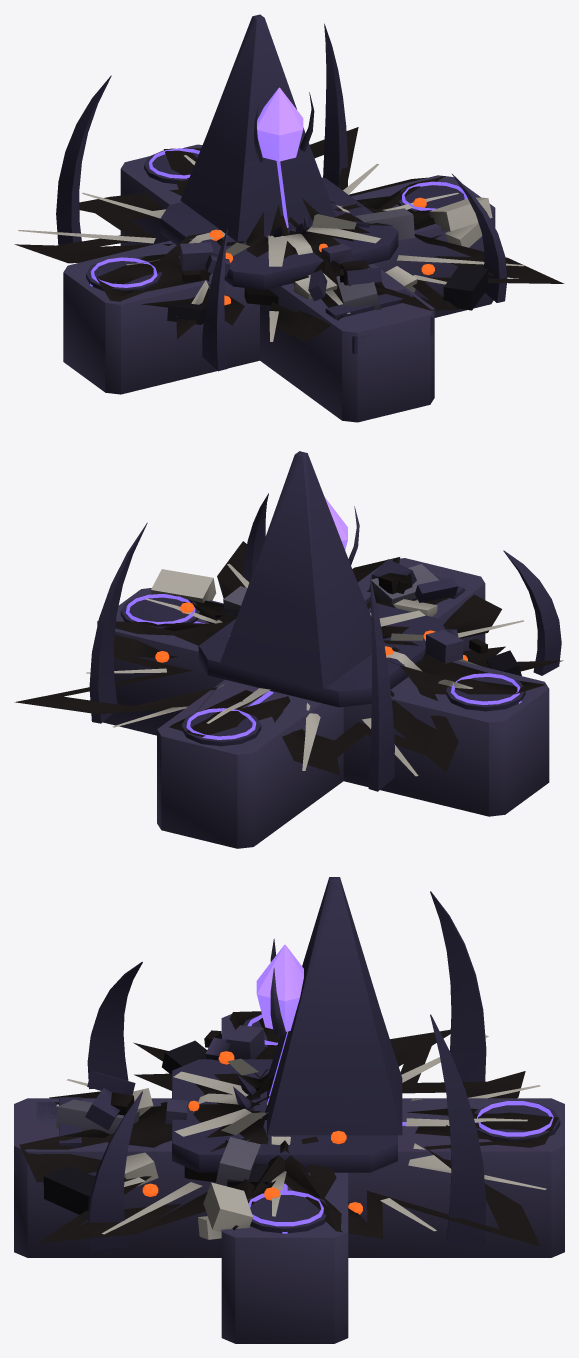
File: dark-spaceport-umbra.glb
3 views of the same model, one above another, from view 1: azimuth 30°, elevation 25°; view 2: azimuth 150°, elevation 25°; view 3: azimuth 270°, elevation 25° (orthographic). The views are drawn at different scales.
Visible parts, largest first — view 1: site_dark_spaceport_umbra_body, site_dark_spaceport_umbra_ruin, site_dark_spaceport_umbra_core; view 2: site_dark_spaceport_umbra_body, site_dark_spaceport_umbra_ruin; view 3: site_dark_spaceport_umbra_body, site_dark_spaceport_umbra_ruin, site_dark_spaceport_umbra_core.
Part boxes in pixels (left/top/right/bottom): site_dark_spaceport_umbra_body: left=56, top=14, right=507, bottom=422; site_dark_spaceport_umbra_ruin: left=14, top=127, right=564, bottom=341; site_dark_spaceport_umbra_core: left=257, top=87, right=303, bottom=161; site_dark_spaceport_umbra_body: left=89, top=451, right=561, bottom=848; site_dark_spaceport_umbra_ruin: left=14, top=541, right=563, bottom=776; site_dark_spaceport_umbra_body: left=14, top=877, right=564, bottom=1343; site_dark_spaceport_umbra_ruin: left=19, top=1011, right=558, bottom=1246; site_dark_spaceport_umbra_core: left=256, top=944, right=303, bottom=1031.
Bounding box in the file's own units: 5.9 × 4.3 × 6.1.
